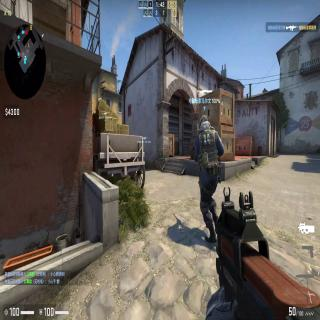CT-Body: (192, 114, 224, 219)
CT-Head: (198, 116, 212, 129)
